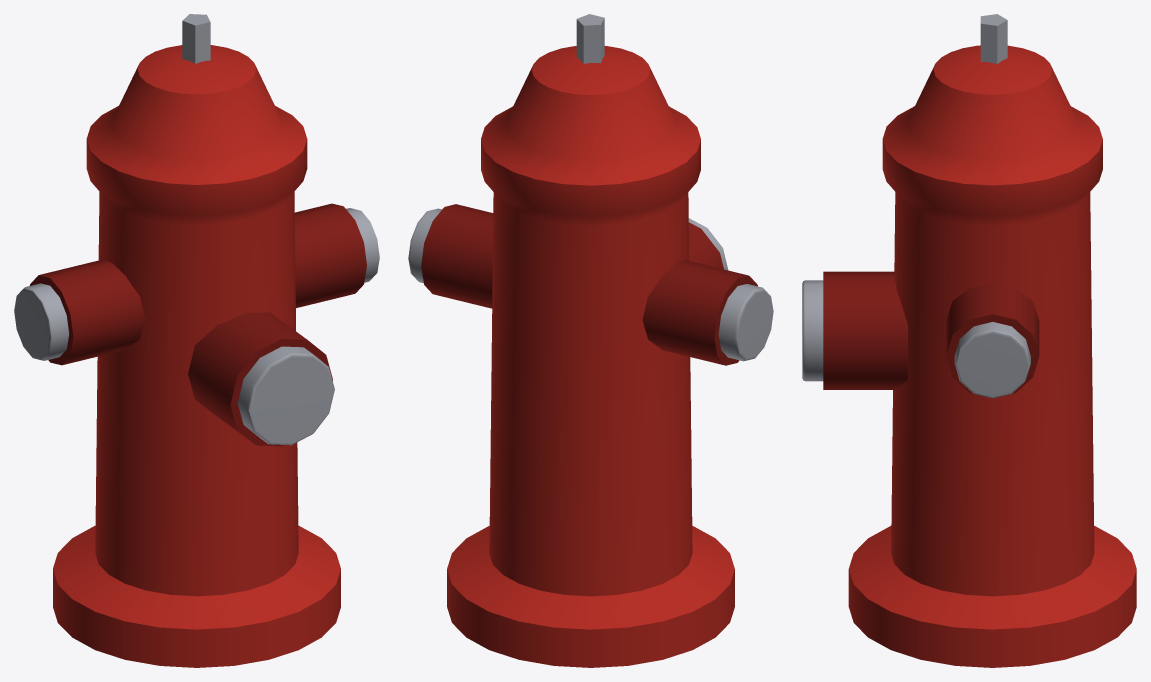
File: gen_fire_hydrant.mobile-mid.glb
The picture shows the model from 3 angles, left to right: view 1: azimuth 30°, elevation 25°; view 2: azimuth 150°, elevation 25°; view 3: azimuth 270°, elevation 25°; orthographic projection.
Visible parts, largest first — view 1: gen_fire_hydrant; view 2: gen_fire_hydrant; view 3: gen_fire_hydrant.
Boxes of the visible parts, x1,y1,x2,y2 form: gen_fire_hydrant: [14, 14, 379, 667]; gen_fire_hydrant: [408, 14, 773, 667]; gen_fire_hydrant: [802, 14, 1136, 667].
Bounding box in the file's own units: 0.45 × 0.765 × 0.395.
Materials: 1 (1 with a texture image).
